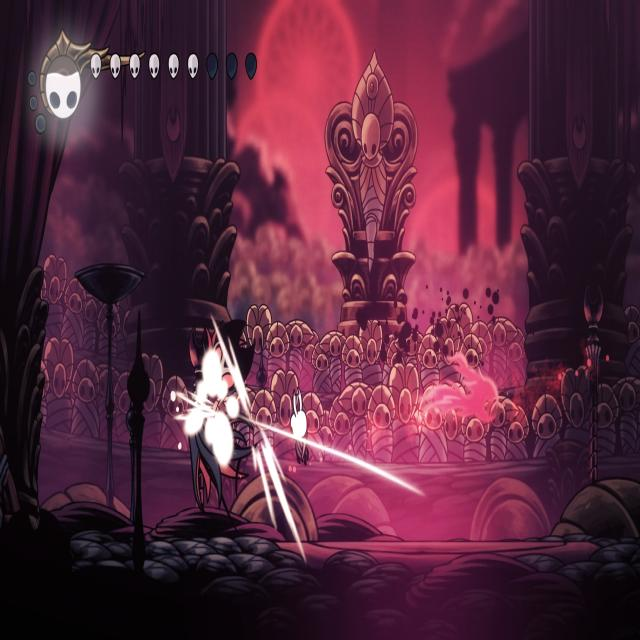Fire Bat: (432, 347, 501, 426)
Grimm: (173, 316, 261, 540)
Player: (286, 384, 312, 466)
